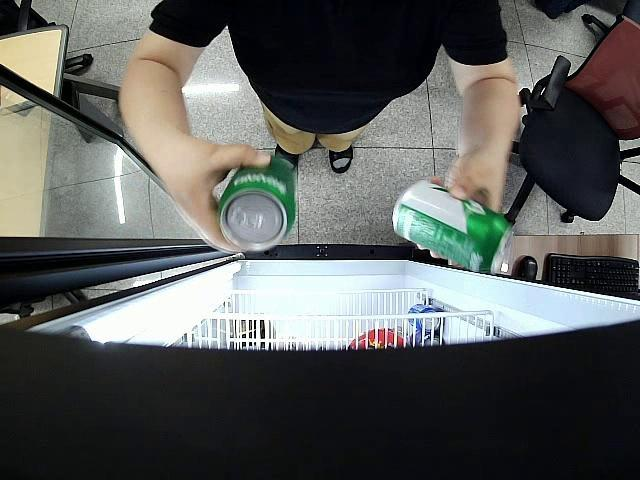12_chilsungCider: (392, 177, 514, 272), (214, 153, 296, 250)
